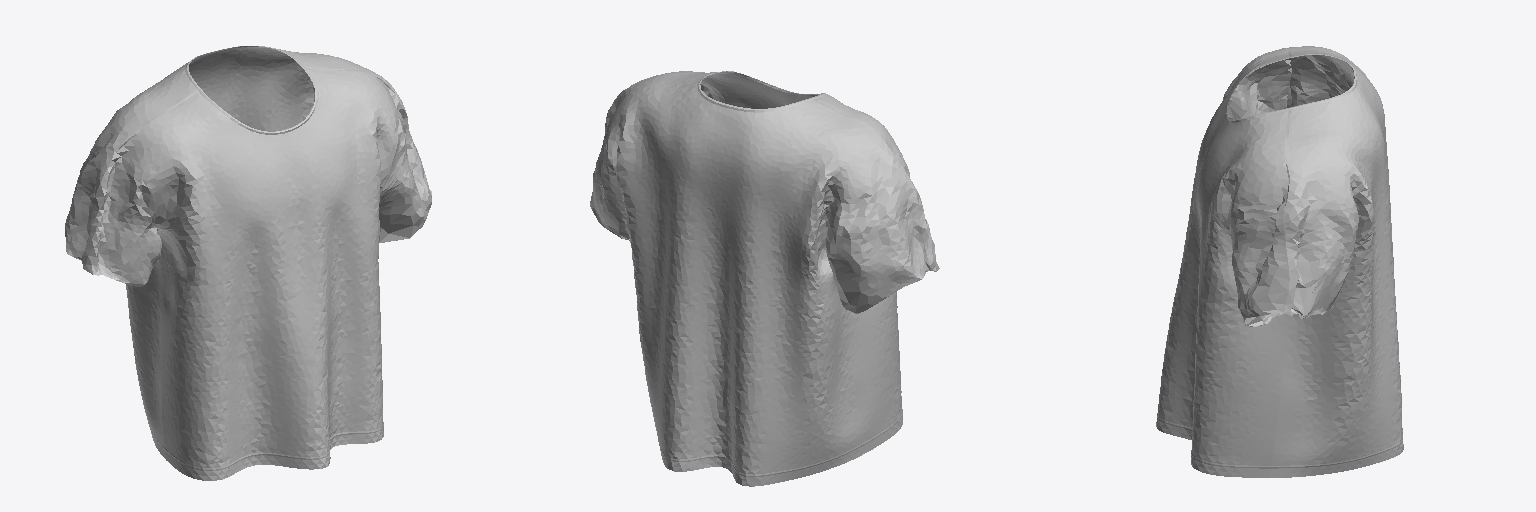
File: XL_Tall.obj
3 views of the same model, side by side, from view 1: azimuth 30°, elevation 25°; view 2: azimuth 150°, elevation 25°; view 3: azimuth 270°, elevation 25° (orthographic).
Visible parts, largest first — view 1: 短袖.003; view 2: 短袖.003; view 3: 短袖.003.
Boxes of the visible parts, box(x1,y1,x2,y2) form: 短袖.003: box(65, 46, 431, 480); 短袖.003: box(590, 71, 939, 486); 短袖.003: box(1156, 46, 1403, 477).
Size of the model in its own units: 0.6979 by 0.6962 by 0.4362.